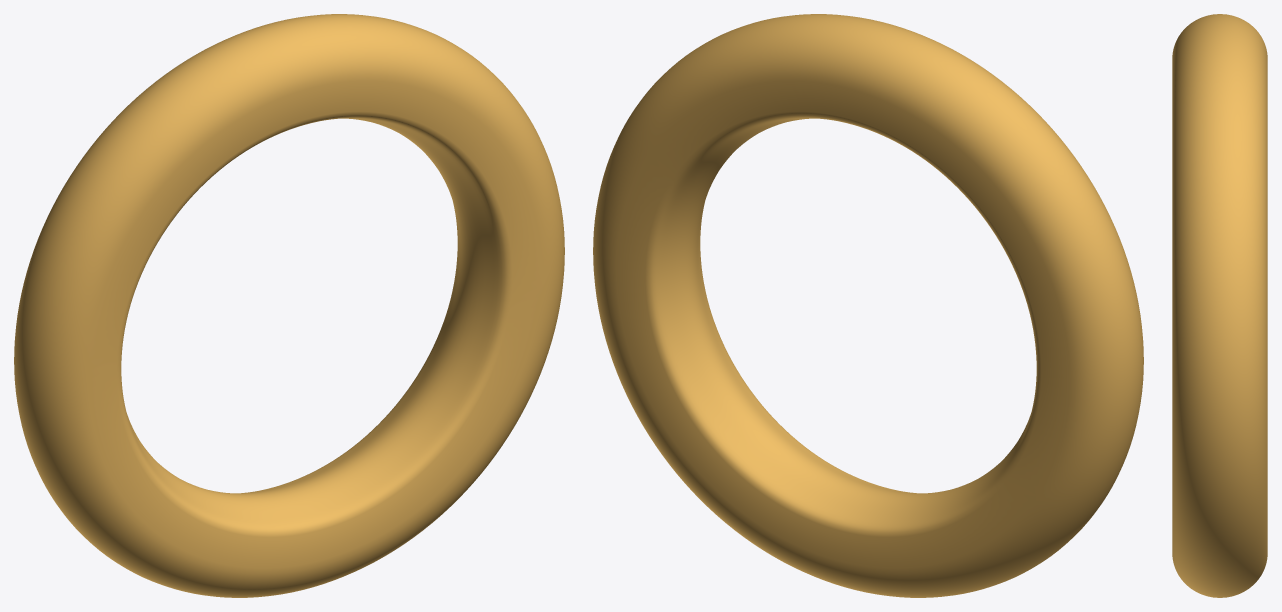
File: aurea-ring.glb
3 renders of one model, left to right at view 1: azimuth 30°, elevation 25°; view 2: azimuth 150°, elevation 25°; view 3: azimuth 270°, elevation 25°, orthographic. The views are drawn at different scales.
Parts seen in each view (by area): view 1: Aurea_Ring; view 2: Aurea_Ring; view 3: Aurea_Ring.
Part boxes in pixels (x1,y1,x2,y2): Aurea_Ring: (14,14,564,597); Aurea_Ring: (593,14,1143,597); Aurea_Ring: (1172,14,1267,597).
Bounding box in the file's own units: 4.4 × 4.4 × 0.72.
